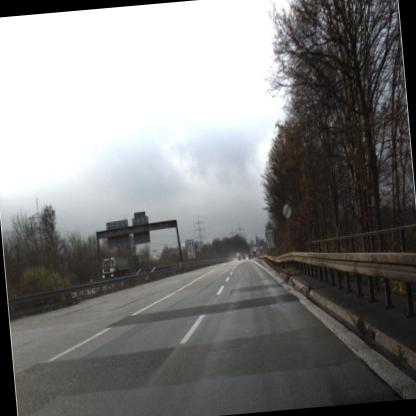other: (280, 198, 293, 223)
